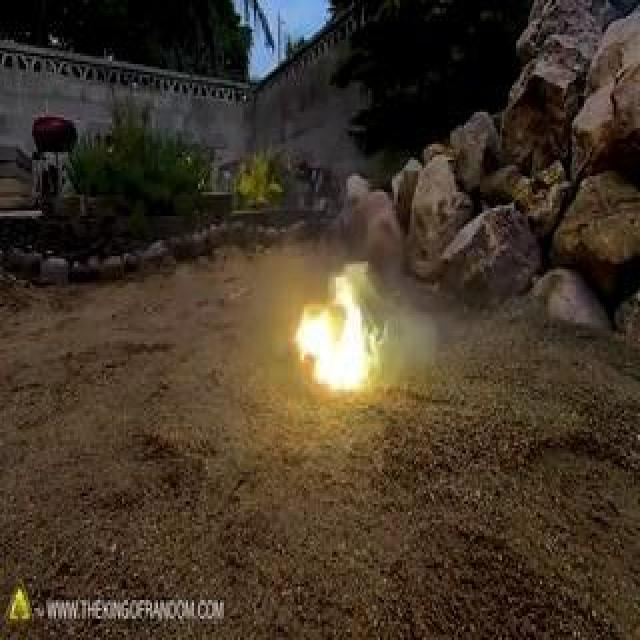Fire: (286, 239, 368, 396)
